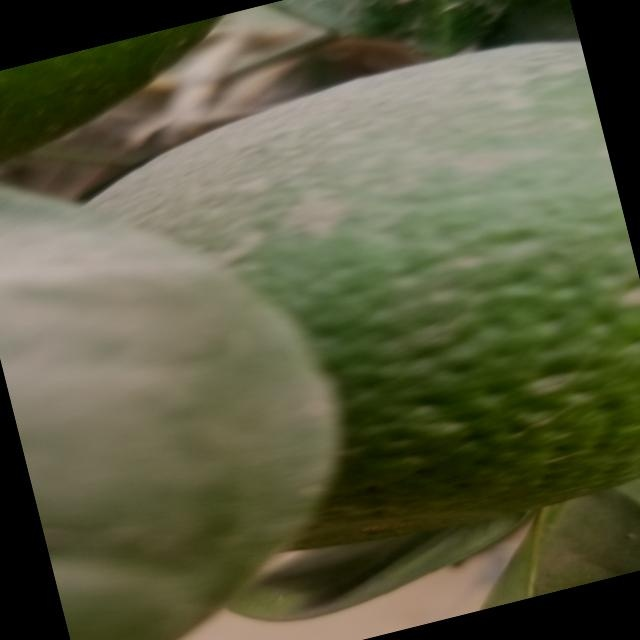agrume: (16, 18, 640, 624)
